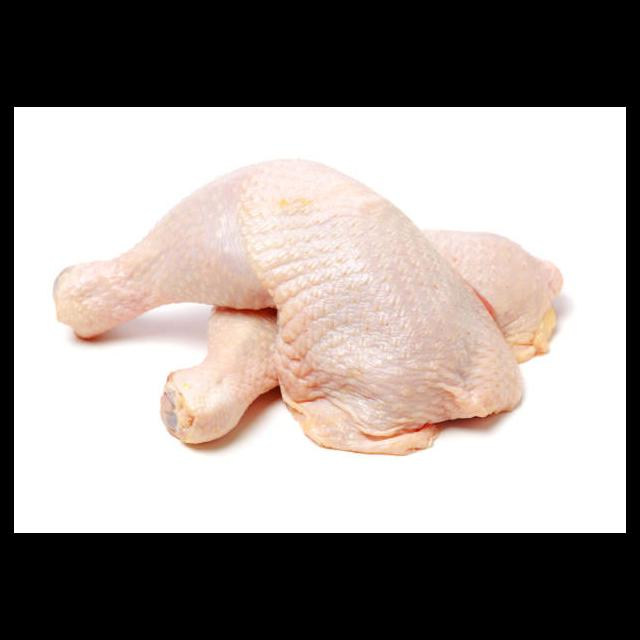chicken: (52, 159, 564, 460)
